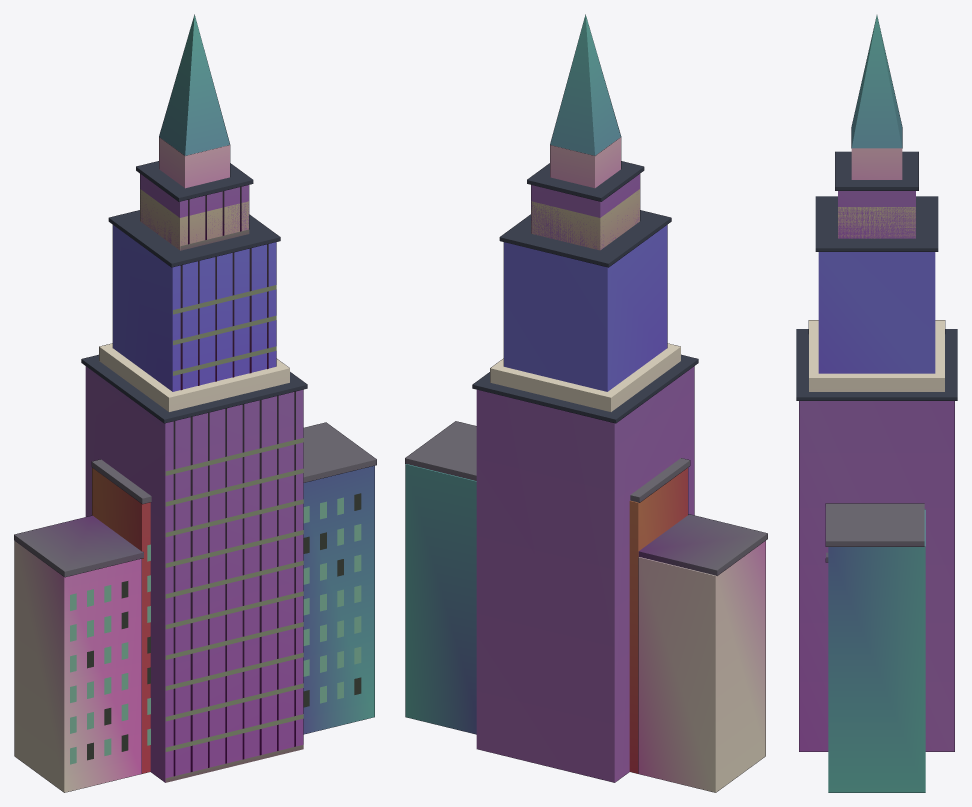
The model's file is fps-kit-downtown.glb.
3 renders of one model, left to right at view 1: azimuth 30°, elevation 25°; view 2: azimuth 150°, elevation 25°; view 3: azimuth 270°, elevation 25°, orthographic. The views are drawn at different scales.
Parts seen in each view (by area): view 1: KIT_DOWNTOWN_Backdrop_Tower, KIT_DOWNTOWN_Backdrop_Block, KIT_DOWNTOWN_Backdrop_Spire; view 2: KIT_DOWNTOWN_Backdrop_Tower, KIT_DOWNTOWN_Backdrop_Block, KIT_DOWNTOWN_Backdrop_Spire; view 3: KIT_DOWNTOWN_Backdrop_Tower, KIT_DOWNTOWN_Backdrop_Block, KIT_DOWNTOWN_Backdrop_Spire.
Boxes of the visible parts, x1,y1,x2,y2 form: KIT_DOWNTOWN_Backdrop_Tower: [81, 161, 307, 782]; KIT_DOWNTOWN_Backdrop_Block: [14, 422, 376, 792]; KIT_DOWNTOWN_Backdrop_Spire: [99, 14, 289, 411]; KIT_DOWNTOWN_Backdrop_Tower: [472, 161, 698, 782]; KIT_DOWNTOWN_Backdrop_Block: [405, 421, 767, 792]; KIT_DOWNTOWN_Backdrop_Spire: [490, 14, 680, 411]; KIT_DOWNTOWN_Backdrop_Tower: [796, 151, 957, 751]; KIT_DOWNTOWN_Backdrop_Block: [825, 503, 925, 792]; KIT_DOWNTOWN_Backdrop_Spire: [808, 15, 945, 391].
Bounding box in the file's own units: 36.2 × 80.43 × 16.64.
Materials: 1 (1 with a texture image).
